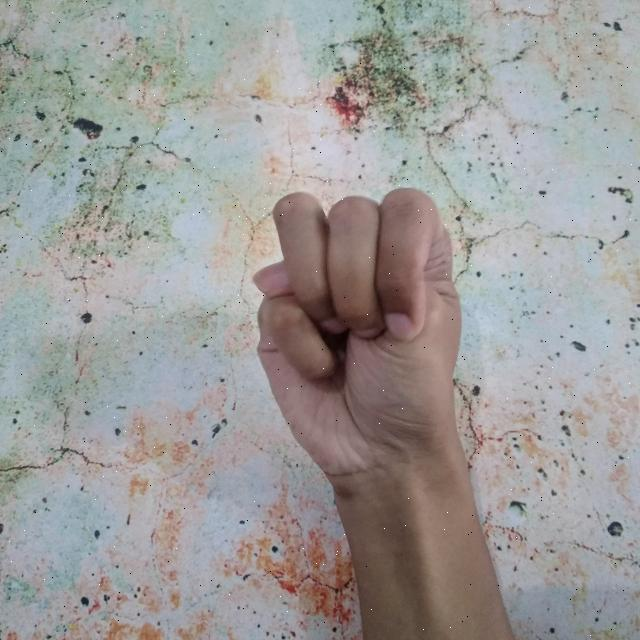M: (250, 183, 520, 640)
